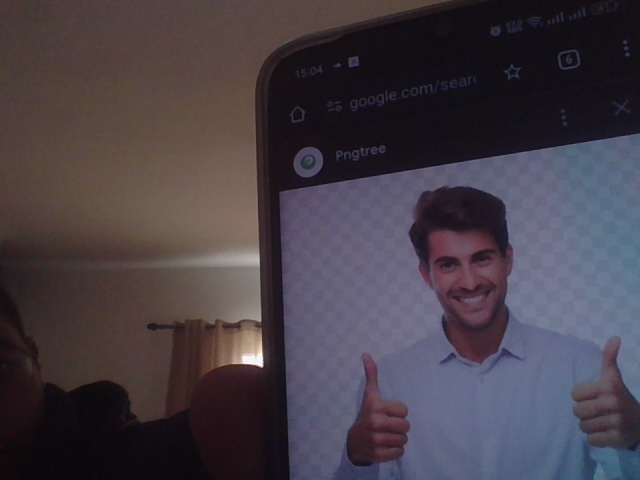fake: (408, 169, 530, 342)
